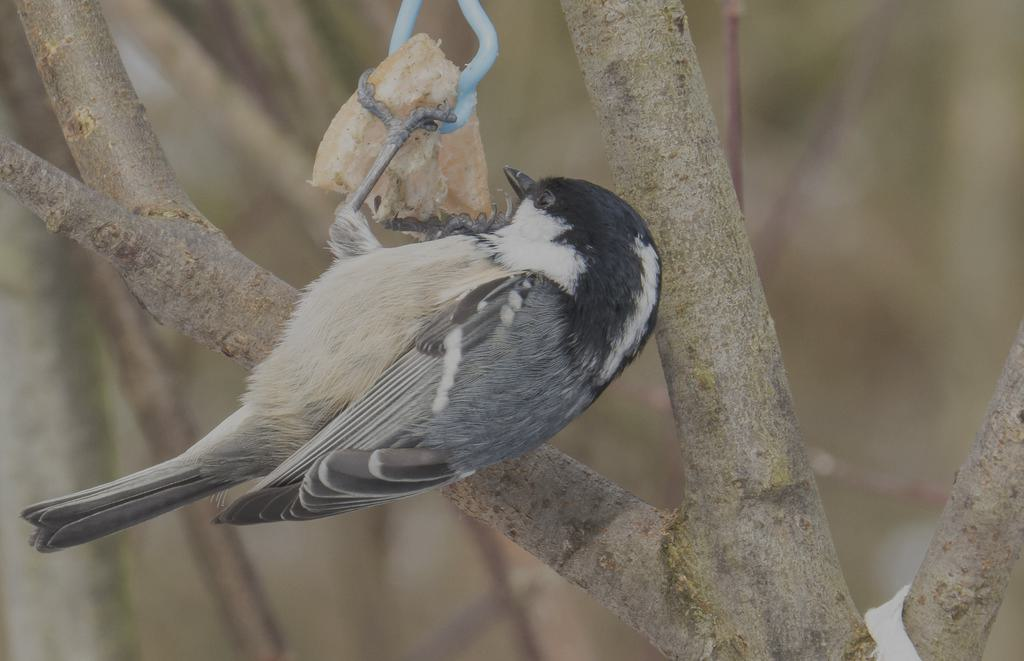PeriparusAter: (18, 65, 664, 555)
